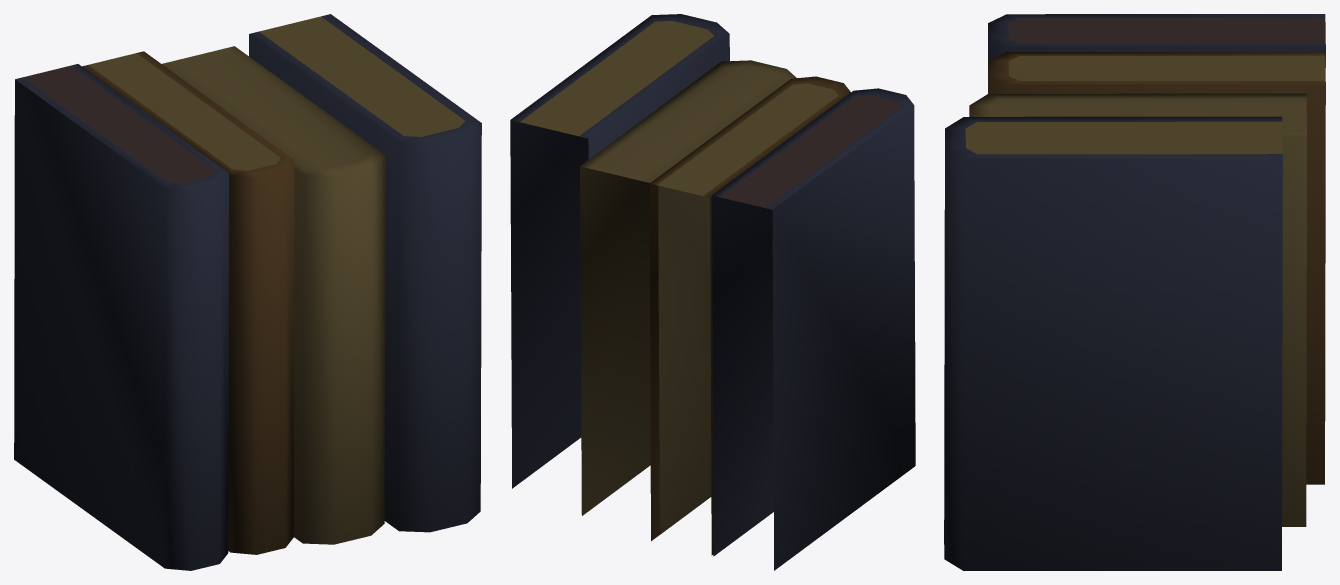
The model's file is pq_livres_petits_2.glb.
The picture shows the model from 3 angles, left to right: view 1: azimuth 30°, elevation 25°; view 2: azimuth 150°, elevation 25°; view 3: azimuth 270°, elevation 25°; orthographic projection. The views are drawn at different scales.
Parts seen in each view (by area): view 1: BookGroup_Small_2; view 2: BookGroup_Small_2; view 3: BookGroup_Small_2.
Part boxes in pixels (x1,y1,x2,y2): BookGroup_Small_2: (14,14,481,570); BookGroup_Small_2: (510,14,915,570); BookGroup_Small_2: (944,14,1325,570).
Bounding box in the file's own units: 0.2002 × 0.2491 × 0.2088.
